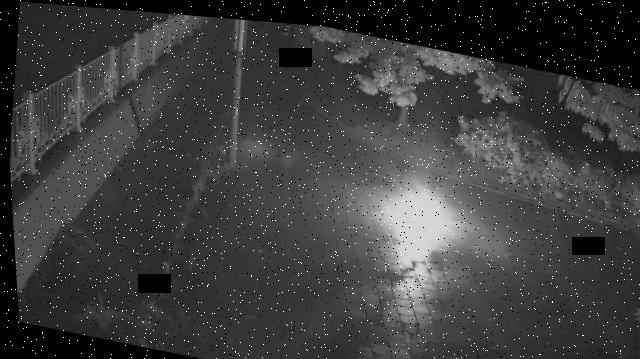fire: (374, 165, 468, 271)
